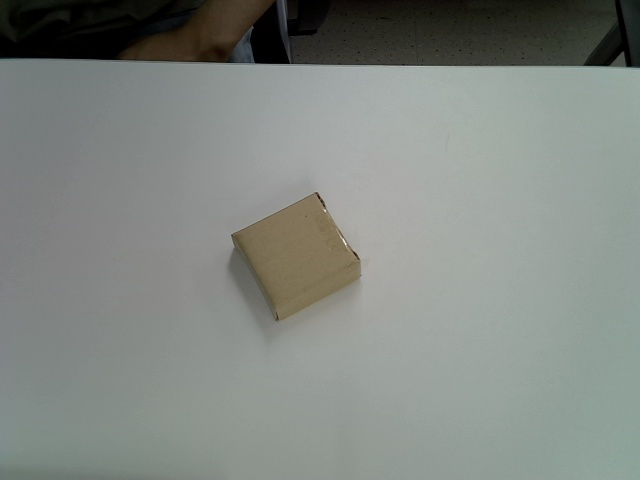normal: (232, 190, 361, 322)
